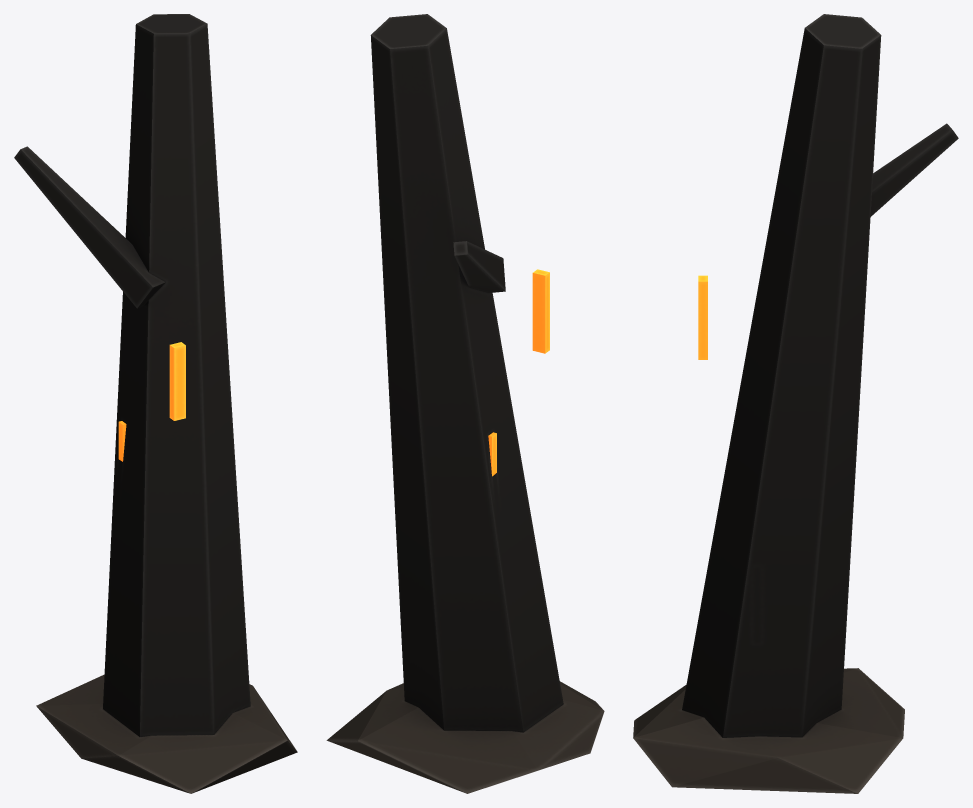
File: obj_tree_charred_b.glb
3 views of the same model, side by side, from view 1: azimuth 30°, elevation 25°; view 2: azimuth 150°, elevation 25°; view 3: azimuth 270°, elevation 25° (orthographic). The views are drawn at different scales.
Visible parts, largest first — view 1: obj_tree_charred_b; view 2: obj_tree_charred_b; view 3: obj_tree_charred_b.
Boxes of the visible parts, box(x1,y1,x2,y2) form: obj_tree_charred_b: box(14, 14, 297, 793); obj_tree_charred_b: box(326, 14, 604, 793); obj_tree_charred_b: box(633, 14, 958, 793).
Bounding box in the file's own units: 0.5169 × 1.72 × 0.6777.
1 material, 1 textured.
